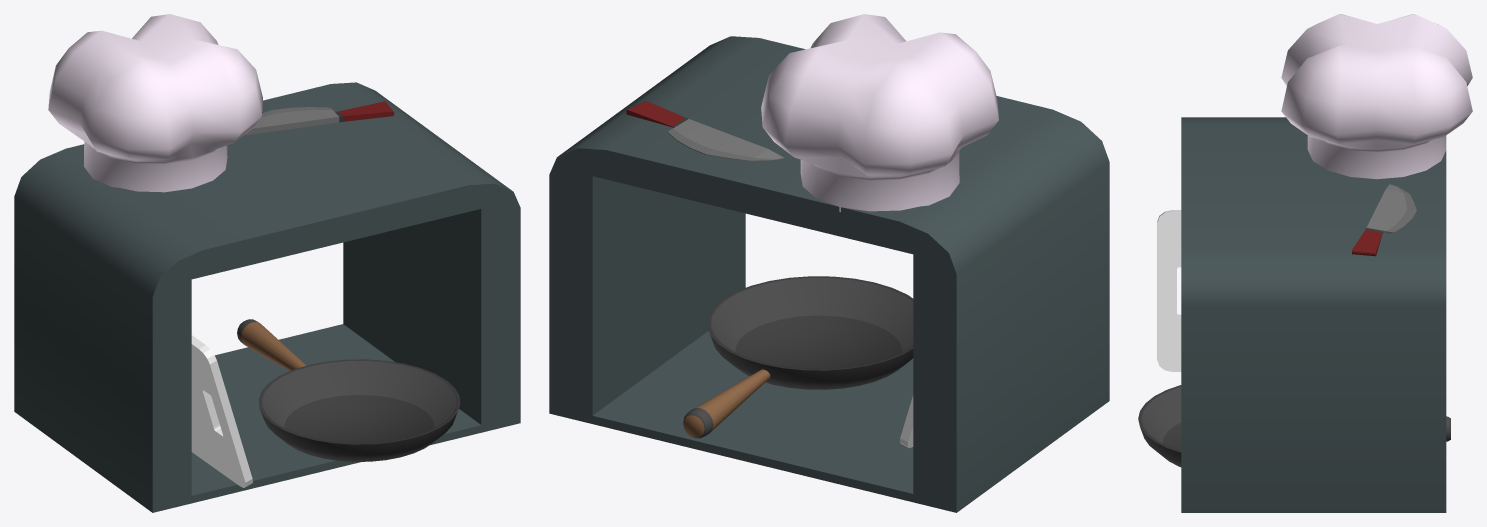
The model's file is UpgradeTable.fbx.
3 views of the same model, side by side, from view 1: azimuth 30°, elevation 25°; view 2: azimuth 150°, elevation 25°; view 3: azimuth 270°, elevation 25° (orthographic). The views are drawn at different scales.
Parts seen in each view (by area): view 1: UpgradeTable; view 2: UpgradeTable; view 3: UpgradeTable.
Part boxes in pixels (<box>): UpgradeTable: <box>14,14,520,512</box>; UpgradeTable: <box>549,14,1109,512</box>; UpgradeTable: <box>1138,14,1472,512</box>.
Bounding box in the file's own units: 98.85 × 96.45 × 81.24.
